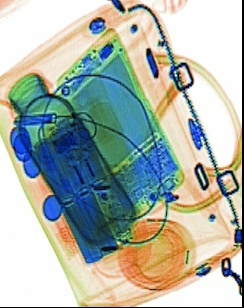powerbank: (31, 113, 138, 264)
